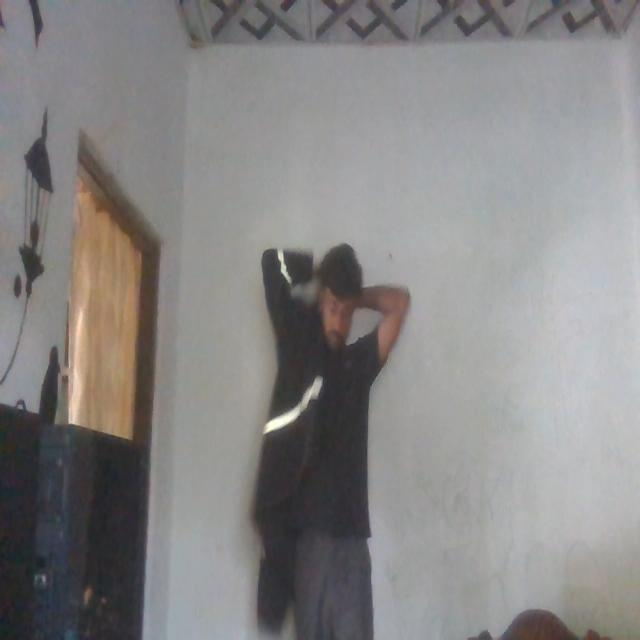Jacket_Wearer: (261, 254, 341, 566)
Person: (278, 239, 414, 640)
